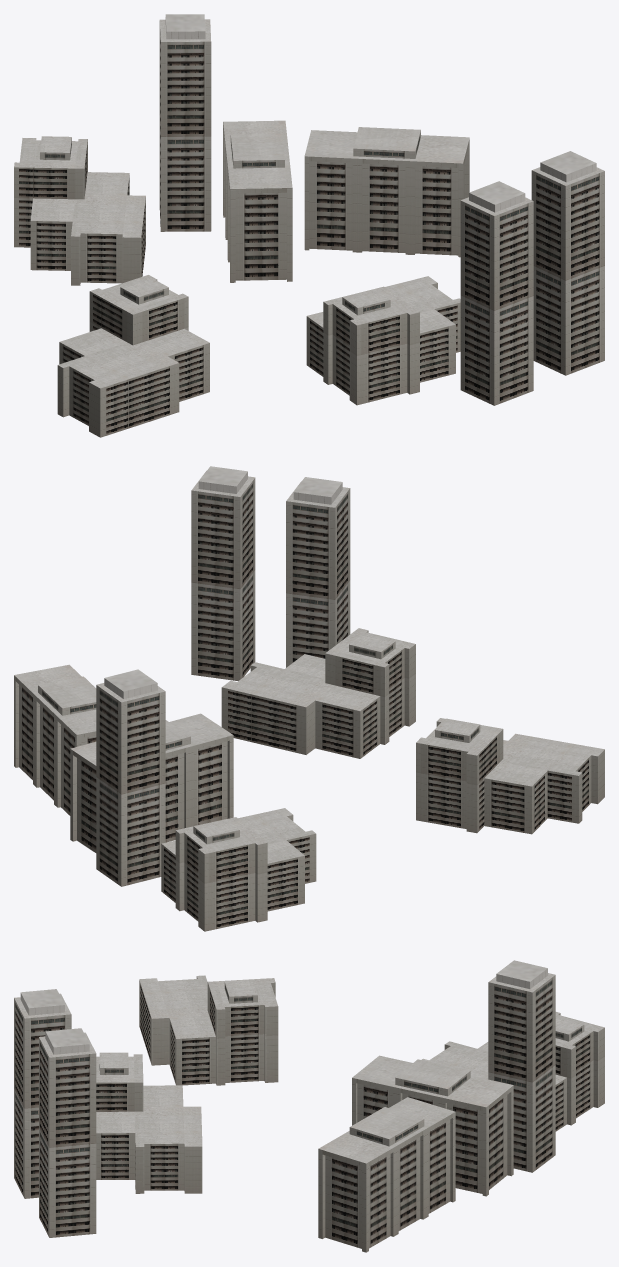
Rendered from Building3.fbx.
3 renders of one model, top to bottom at view 1: azimuth 30°, elevation 25°; view 2: azimuth 150°, elevation 25°; view 3: azimuth 270°, elevation 25°, orthographic. The views are drawn at different scales.
Parts seen in each view (by area): view 1: Building3; view 2: Building3; view 3: Building3.
Part boxes in pixels (<box>): Building3: <box>14,14,604,437</box>; Building3: <box>14,466,604,931</box>; Building3: <box>14,960,604,1252</box>.
Bounding box in the file's own units: 94.8 × 36.01 × 103.
